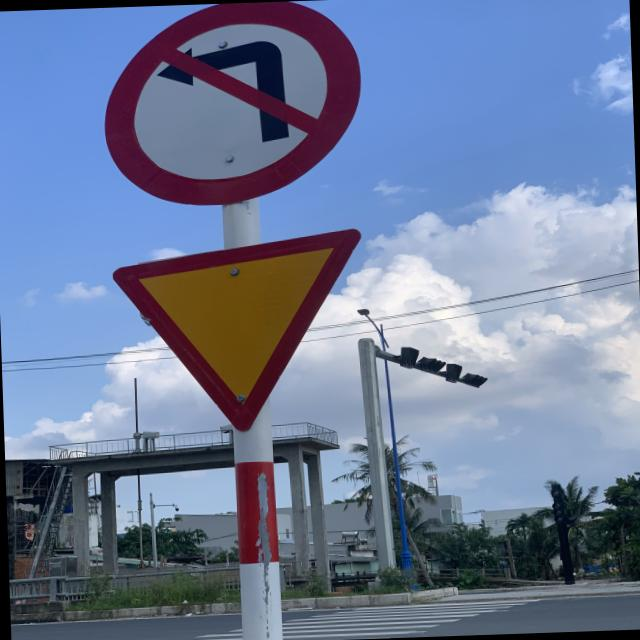Cam_Re_Trai: (96, 0, 366, 203)
Gioi_Han_Toc_Do_25: (114, 226, 376, 439)
